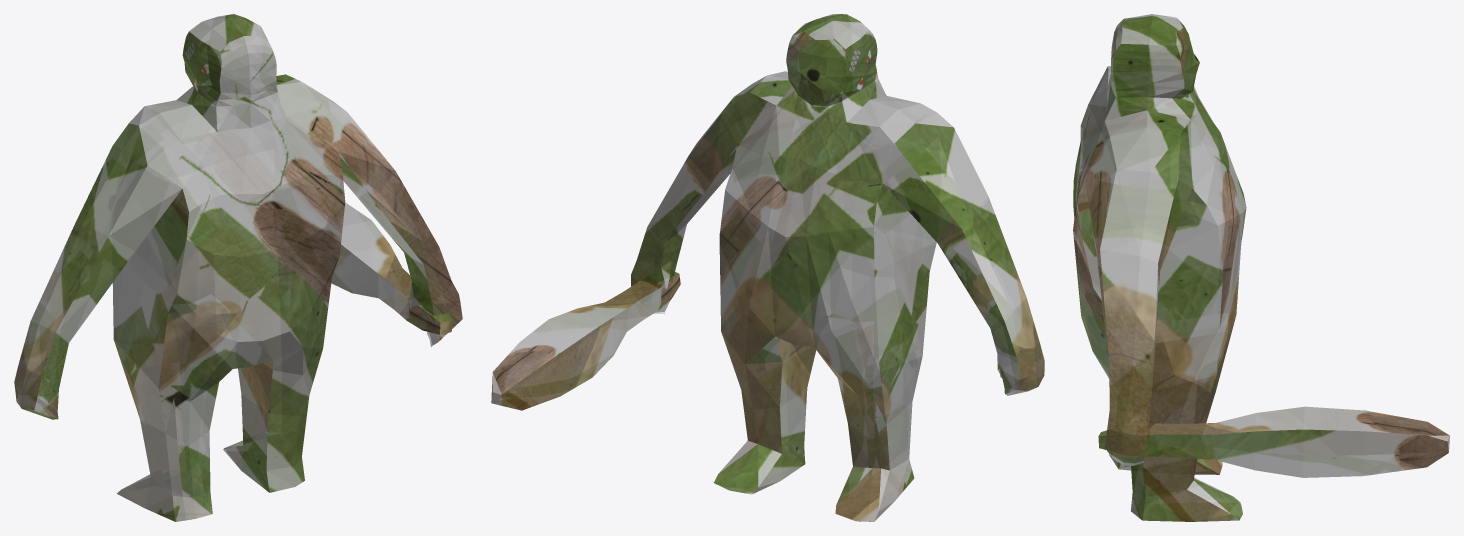
Rendered from Enemigo22.obj.
The picture shows the model from 3 angles, left to right: view 1: azimuth 30°, elevation 25°; view 2: azimuth 150°, elevation 25°; view 3: azimuth 270°, elevation 25°; orthographic projection. The views are drawn at different scales.
Parts seen in each view (by area): view 1: Cube; view 2: Cube; view 3: Cube.
Boxes of the visible parts, x1,y1,x2,y2 form: Cube: (14,14,462,521); Cube: (491,14,1044,521); Cube: (1073,14,1449,521).
Size of the model in its own units: 2.54 by 2.73 by 1.95.
